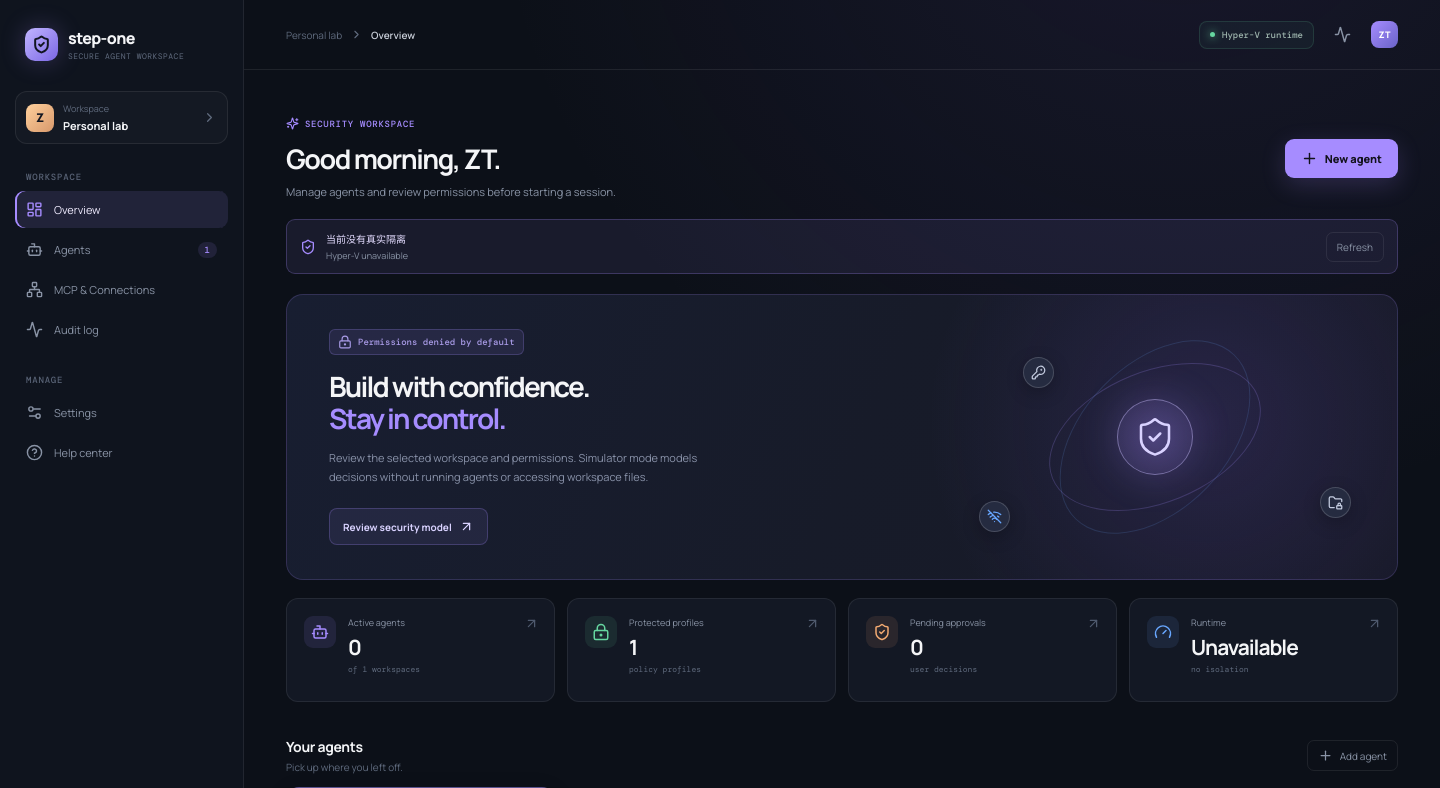
console runtime UI › disables unsupported capabilities and shows runtime errors
The image size is (1440, 788).
Expected: the text "Hyper-V unavailable" is shown, [326,249,408,262]
Click the button "New agent".
click(1341, 158)  # box [1285,138,1398,178]
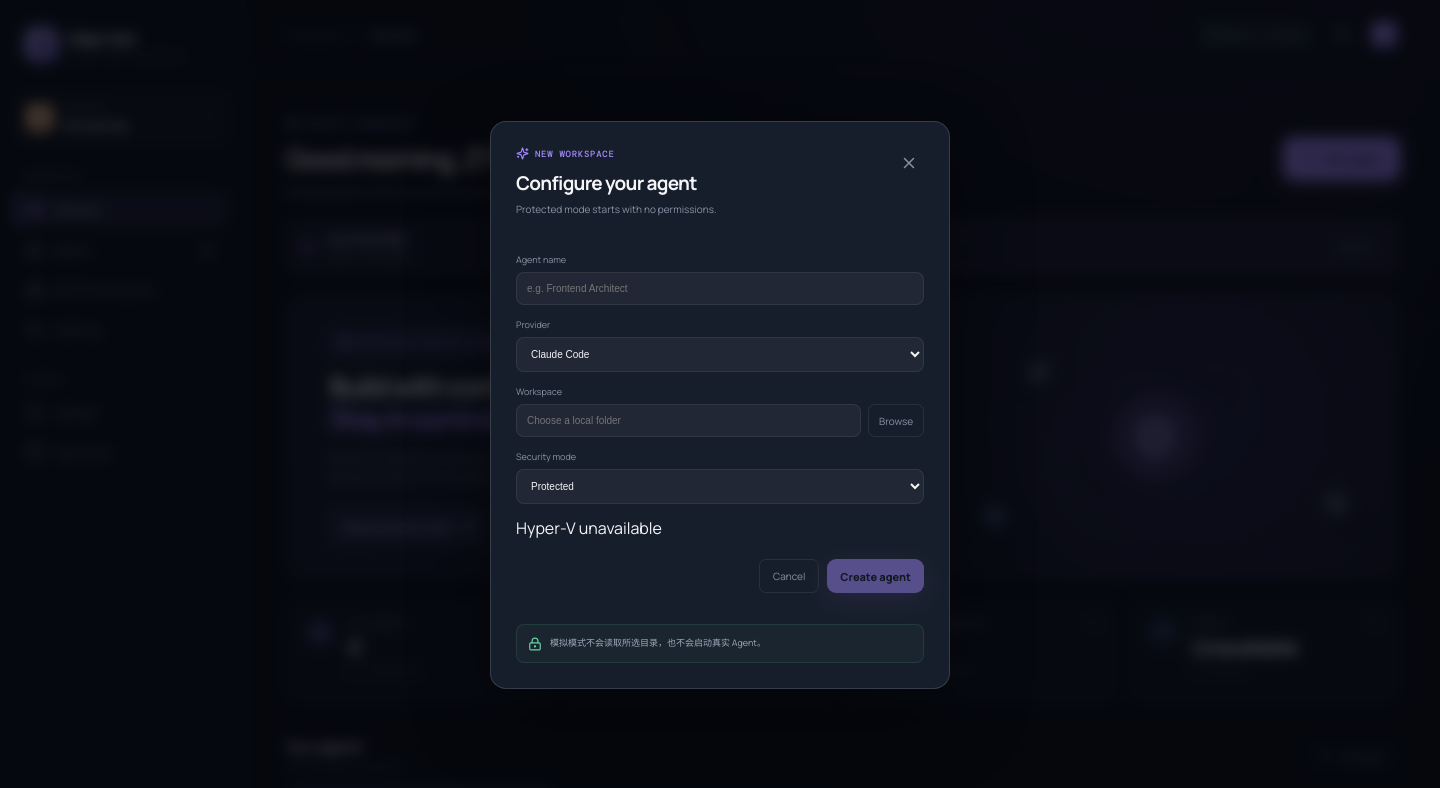
Result: the button "Create agent" is disabled at [827,559,924,593]
